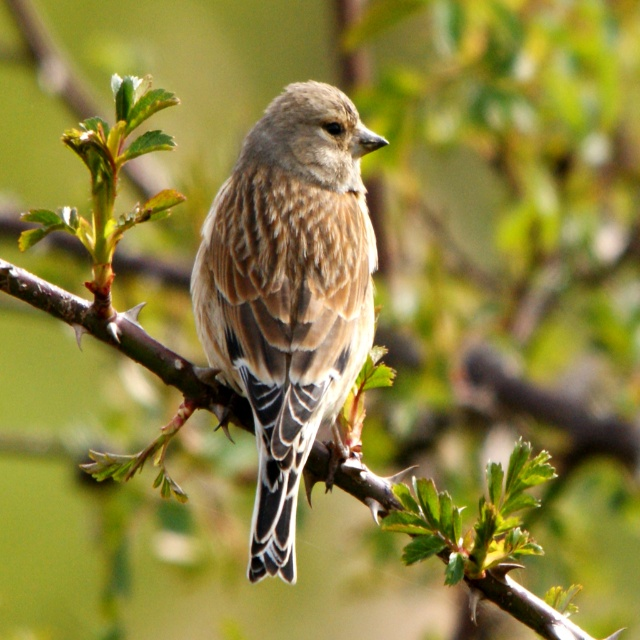Sparrow: (189, 82, 389, 580)
